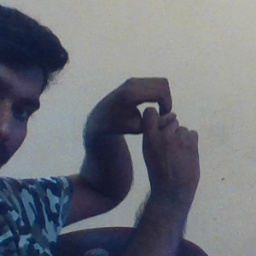Q: (85, 69, 204, 178)
